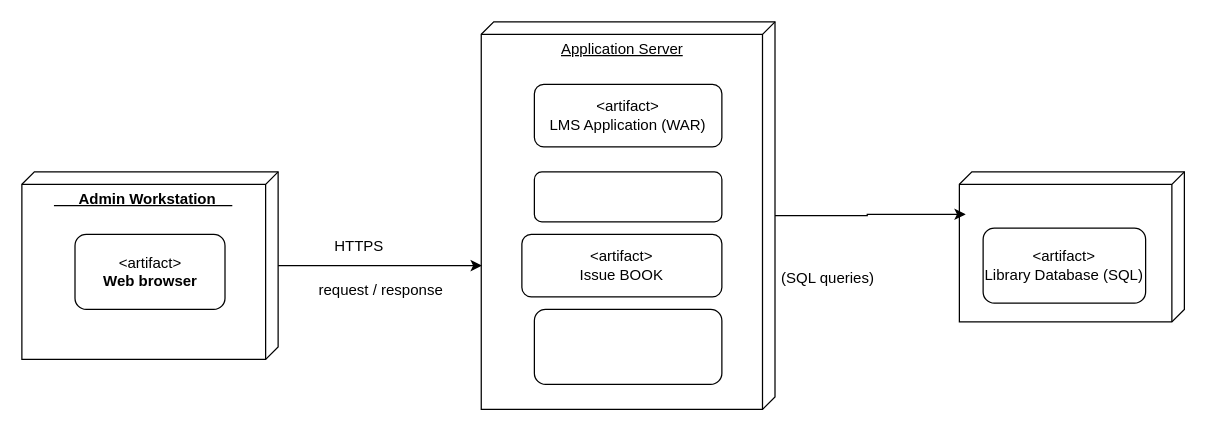
Image size: 1206x431. Some labels were removed from this diagram. The shapes that lost their labels are listed below. From the top down, each one's box as (x1, y1, x2, y2) in pixels, then its label:
(533, 171, 722, 222): <artifact> Book Dashboard
(958, 171, 1184, 322): Database Server
(533, 308, 722, 384): <artifact> My Profile
